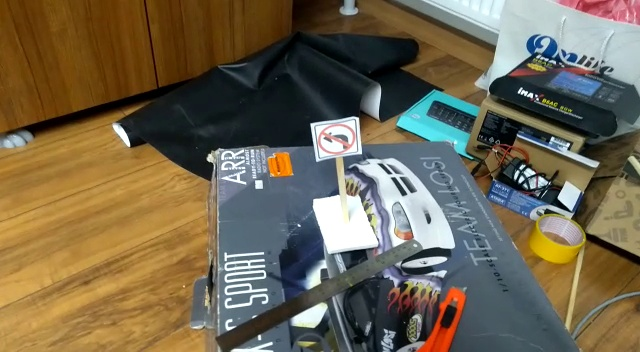sola_donulmez: (317, 119, 356, 160)
